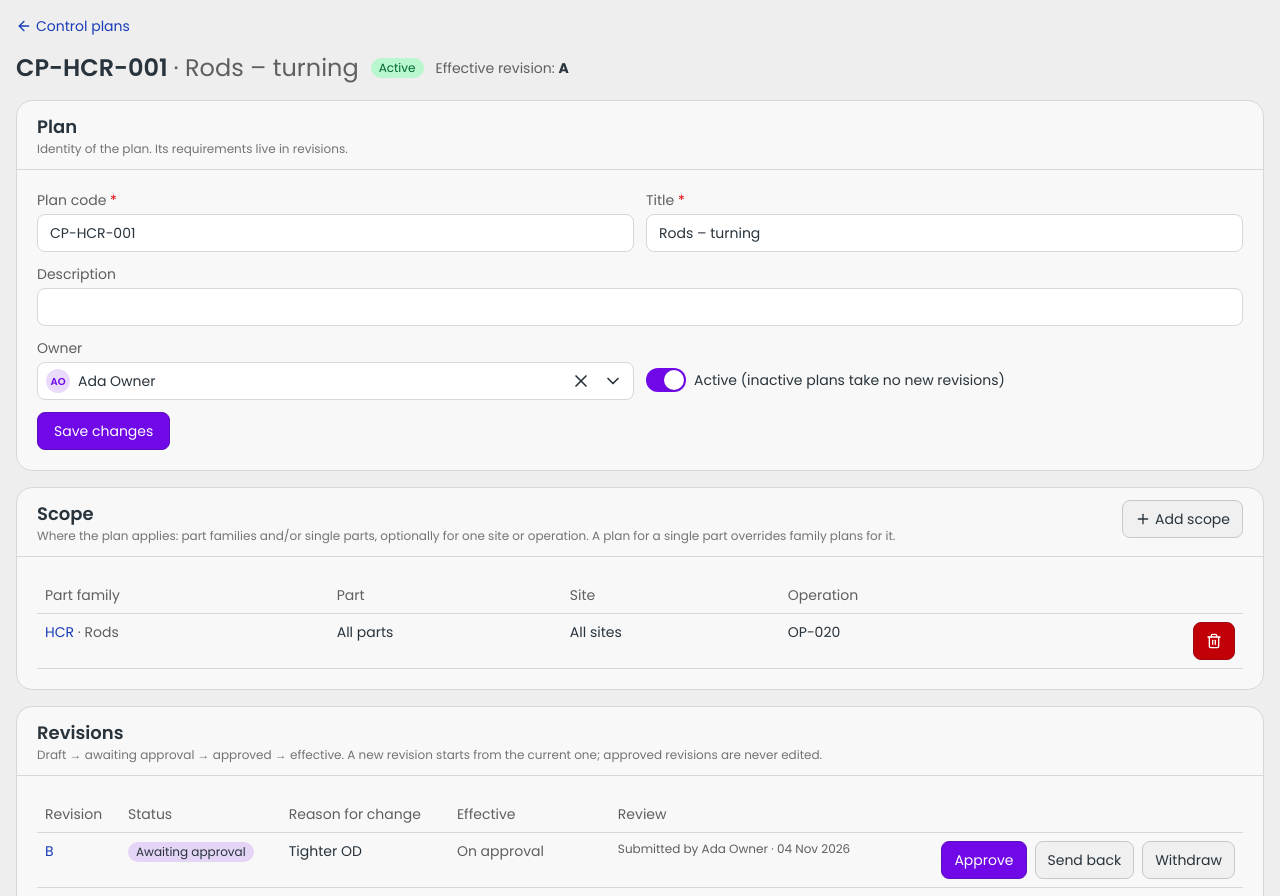
Test case: Control plan page › approves a pending revision with a comment, superseding the effective one
This screenshot has width=1280, height=896.
Later steps or results of the test are not shown.
Click the button "Approve" at (984, 860), box [941,841,1026,879]
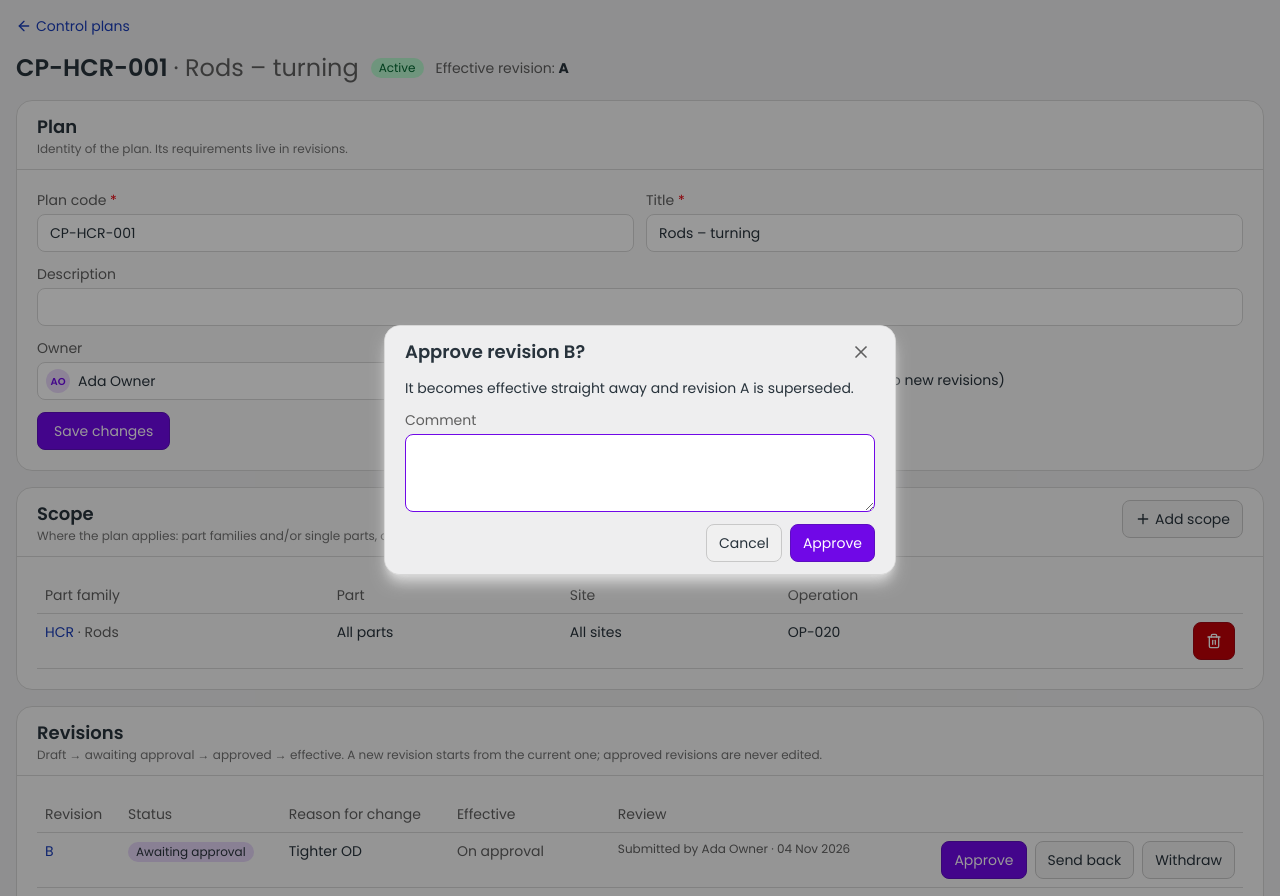
expect the text "It becomes effective straight away and revision A is superseded." is shown: met, box [405,378,875,398]
